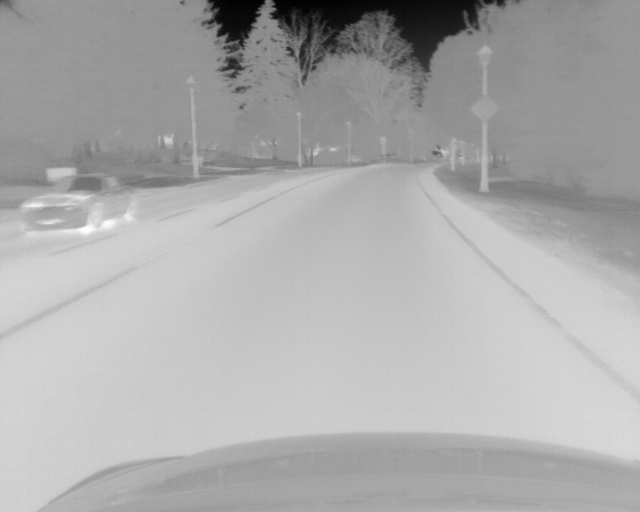car: (16, 171, 138, 238)
